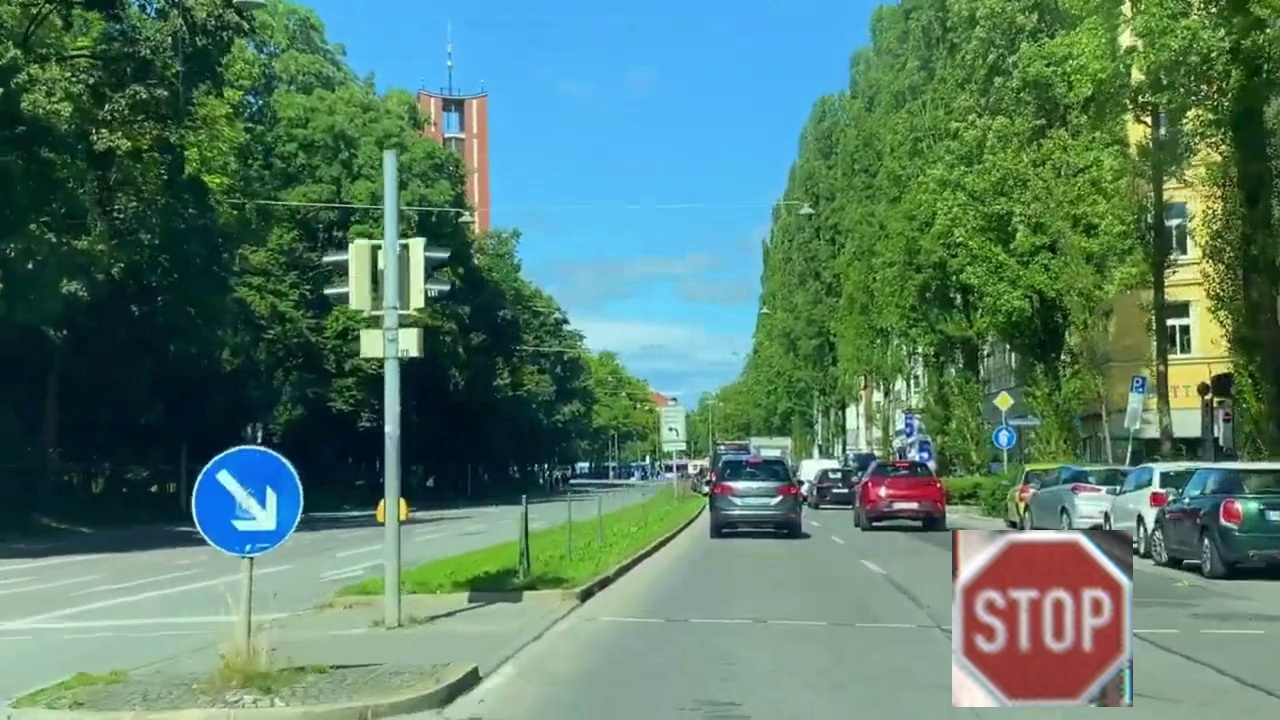Stop: (952, 530, 1133, 707)
